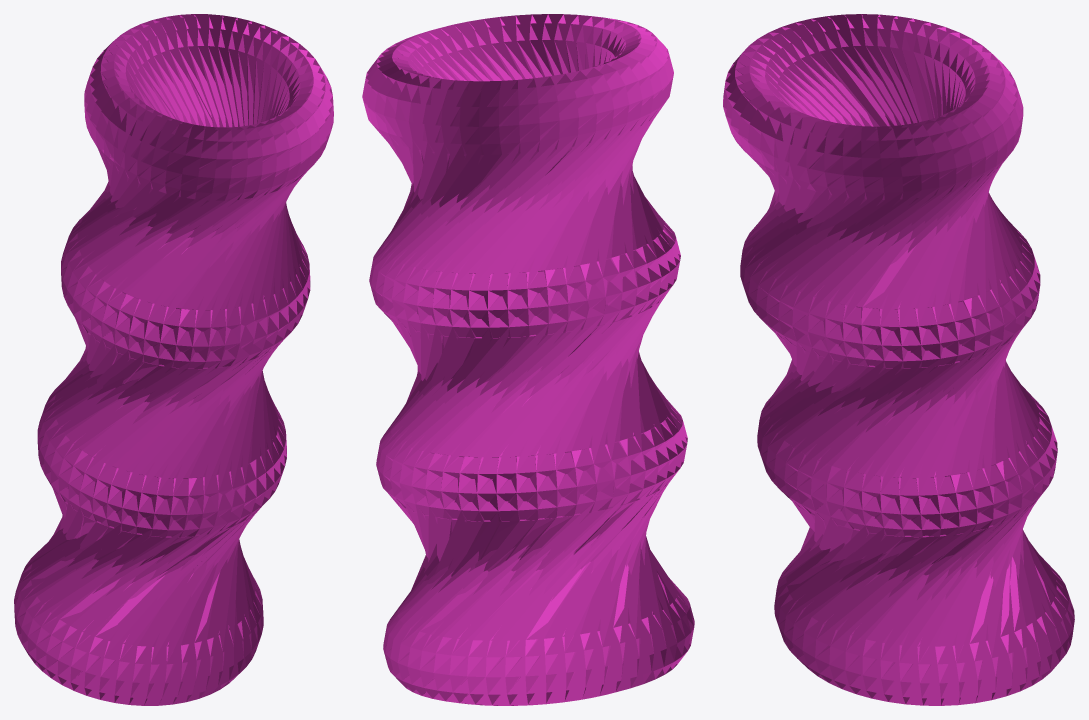
Rendered from homezome.glb.
The picture shows the model from 3 angles, left to right: view 1: azimuth 30°, elevation 25°; view 2: azimuth 150°, elevation 25°; view 3: azimuth 270°, elevation 25°; orthographic projection. The views are drawn at different scales.
Parts seen in each view (by area): view 1: Torus; view 2: Torus; view 3: Torus.
Part boxes in pixels (box(x1,y1,x2,y2)): Torus: box(14, 14, 333, 705); Torus: box(362, 14, 694, 705); Torus: box(723, 14, 1074, 705).
Size of the model in its own units: 1.4 by 2.84 by 1.45.
